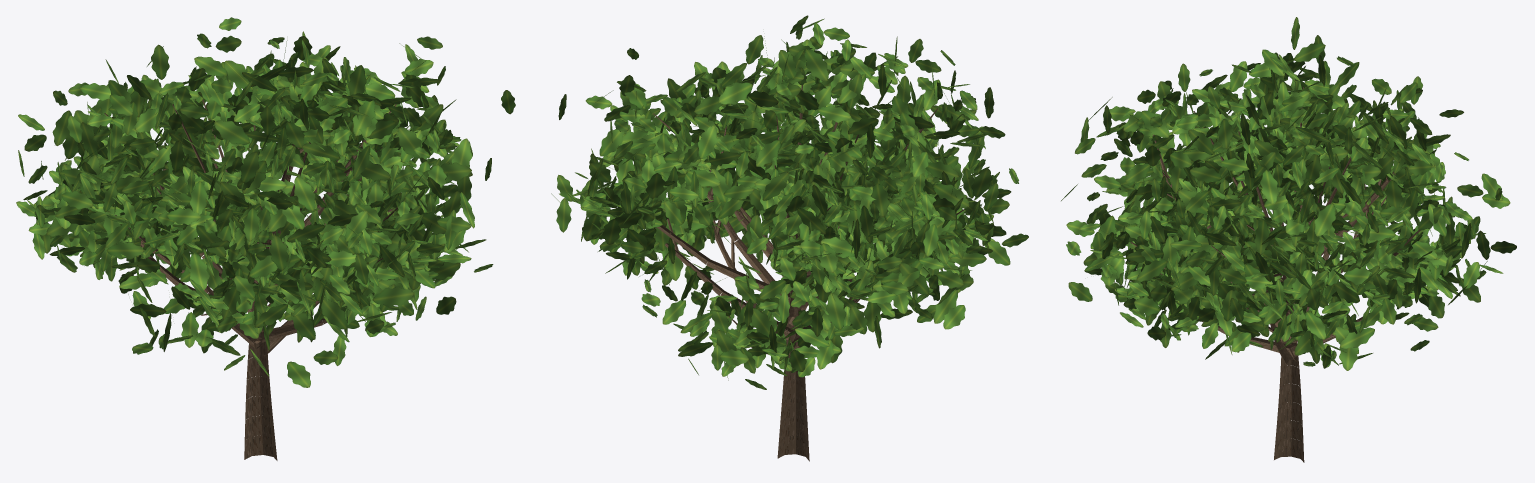
File: oak-detail.glb
3 views of the same model, side by side, from view 1: azimuth 30°, elevation 25°; view 2: azimuth 150°, elevation 25°; view 3: azimuth 270°, elevation 25° (orthographic). The views are drawn at different scales.
Visible parts, largest first — view 1: foliage, bark; view 2: foliage, bark; view 3: foliage, bark.
Part boxes in pixels (x1,y1,x2,y2): foliage: (16,17,515,387); bark: (104,99,397,460); foliage: (551,15,1028,389); bark: (653,78,964,461); foliage: (1061,17,1516,370); bark: (1130,87,1420,462).
Bounding box in the file's own units: 12.03 × 10.48 × 10.86.
2 materials, 2 textured.
